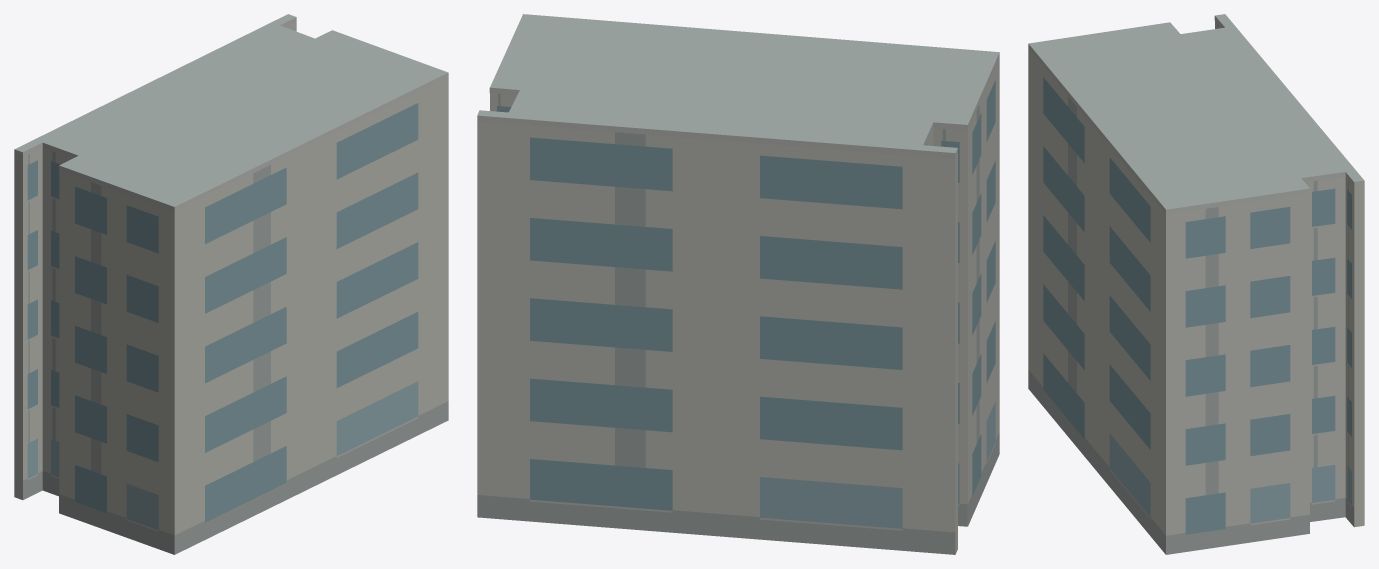
The model's file is survey-upis-32549018.glb.
3 renders of one model, left to right at view 1: azimuth 30°, elevation 25°; view 2: azimuth 150°, elevation 25°; view 3: azimuth 270°, elevation 25°, orthographic. The views are drawn at different scales.
Parts seen in each view (by area): view 1: survey-upis-32549018.tmp; view 2: survey-upis-32549018.tmp; view 3: survey-upis-32549018.tmp.
Part boxes in pixels (x1,y1,x2,y2): survey-upis-32549018.tmp: (14,14,448,554); survey-upis-32549018.tmp: (477,14,999,554); survey-upis-32549018.tmp: (1028,14,1364,554).
Bounding box in the file's own units: 20.68 × 17 × 15.01.
